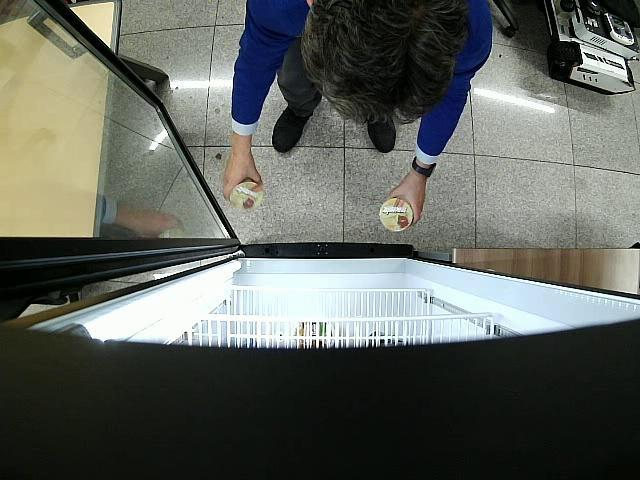04_chapagetti_S: (379, 198, 413, 232), (230, 181, 264, 212)
